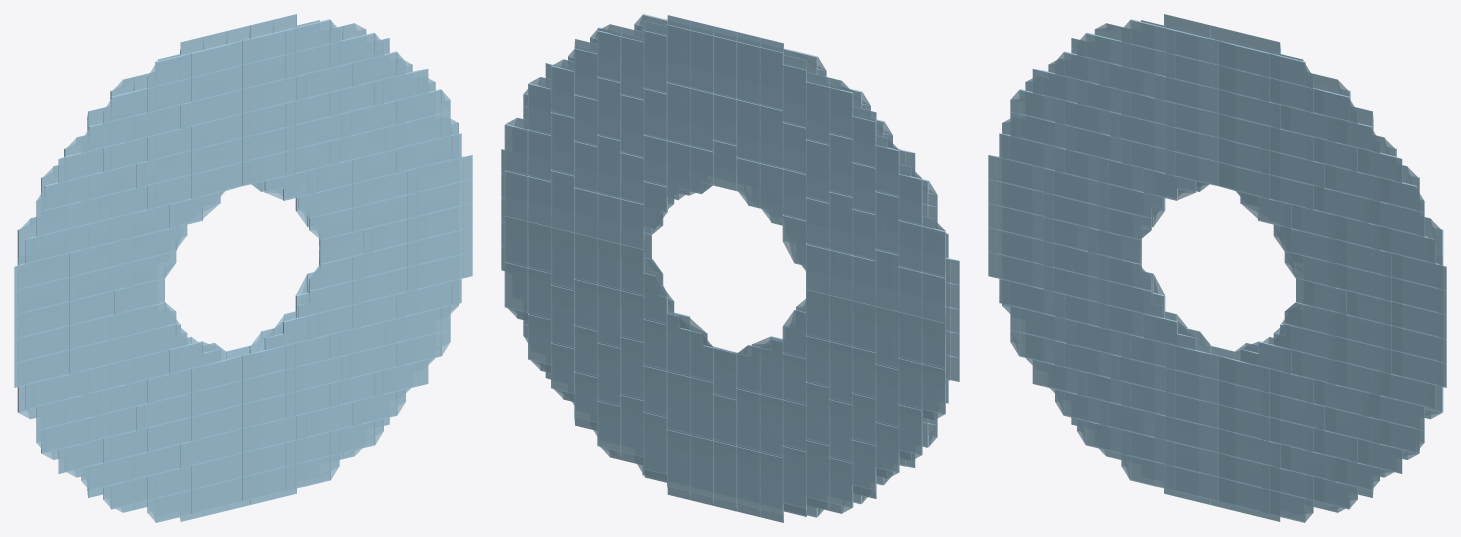
The model's file is ESplus.glb.
3 renders of one model, left to right at view 1: azimuth 30°, elevation 25°; view 2: azimuth 150°, elevation 25°; view 3: azimuth 330°, elevation 25°, orthographic.
Parts seen in each view (by area): view 1: Mesh75 esalgo_SFLX0a_materials_E_Air32 lp_esalgo_SFLY0a33 Mo, Mesh97 esalgo_SFLX0a_materials_E_Air43 lp_esalgo_SFLY0a44 Mo, Mesh11 esalgo_SFLX0a_materials_E_Air3 lp_esalgo_SFLY0a4 Mode, Mesh77 esalgo_SFLX0a_materials_E_Air33 lp_esalgo_SFLY0a34 Mo, Mesh371 esalgo_SFLX0b_materials_E_Air3 lp_esalgo_SFLY0b2 Mod, Mesh349 esalgo_SFLX0c_materials_E_Air2 lp_esalgo_SFLY0c1 Mod, Mesh351 esalgo_SFLX0c_materials_E_Air3 lp_esalgo_SFLY0c2 Mod, Mesh369 esalgo_SFLX0b_materials_E_Air2 lp_esalgo_SFLY0b1 Mod, Mesh93 esalgo_SFLX0a_materials_E_Air41 lp_esalgo_SFLY0a42 Mo, Mesh49 esalgo_SFLX0a_materials_E_Air19 lp_esalgo_SFLY0a20 Mo, Mesh17 esalgo_SFLX0a_materials_E_Air6 lp_esalgo_SFLY0a7 Mode, Mesh51 esalgo_SFLX0a_materials_E_Air20 lp_esalgo_SFLY0a21 Mo (+115 smaller); view 2: Mesh113 esalgo_SFLX0a_materials_E_Air51 lp_esalgo_SFLX0a6 Mo, Mesh109 esalgo_SFLX0a_materials_E_Air49 lp_esalgo_SFLX0a4 Mo, Mesh301 esalgo_SFLX0a_materials_E_Air68 lp_esalgo_SFLX0a23 M, Mesh293 esalgo_SFLX0a_materials_E_Air64 lp_esalgo_SFLX0a19 M, Mesh305 esalgo_SFLX0a_materials_E_Air70 lp_esalgo_SFLX0a25 M, Mesh325 esalgo_SFLX0a_materials_E_Air80 lp_esalgo_SFLX0a35 M, Mesh321 esalgo_SFLX0a_materials_E_Air78 lp_esalgo_SFLX0a33 M, Mesh107 esalgo_SFLX0a_materials_E_Air48 lp_esalgo_SFLX0a3 Mo, Mesh111 esalgo_SFLX0a_materials_E_Air50 lp_esalgo_SFLX0a5 Mo, Mesh303 esalgo_SFLX0a_materials_E_Air69 lp_esalgo_SFLX0a24 M, Mesh295 esalgo_SFLX0a_materials_E_Air65 lp_esalgo_SFLX0a20 M, Mesh307 esalgo_SFLX0a_materials_E_Air71 lp_esalgo_SFLX0a26 M (+114 smaller); view 3: Mesh77 esalgo_SFLX0a_materials_E_Air33 lp_esalgo_SFLY0a34 Mo, Mesh11 esalgo_SFLX0a_materials_E_Air3 lp_esalgo_SFLY0a4 Mode, Mesh97 esalgo_SFLX0a_materials_E_Air43 lp_esalgo_SFLY0a44 Mo, Mesh75 esalgo_SFLX0a_materials_E_Air32 lp_esalgo_SFLY0a33 Mo, Mesh351 esalgo_SFLX0c_materials_E_Air3 lp_esalgo_SFLY0c2 Mod, Mesh369 esalgo_SFLX0b_materials_E_Air2 lp_esalgo_SFLY0b1 Mod, Mesh371 esalgo_SFLX0b_materials_E_Air3 lp_esalgo_SFLY0b2 Mod, Mesh349 esalgo_SFLX0c_materials_E_Air2 lp_esalgo_SFLY0c1 Mod, Mesh65 esalgo_SFLX0a_materials_E_Air27 lp_esalgo_SFLY0a28 Mo, Mesh51 esalgo_SFLX0a_materials_E_Air20 lp_esalgo_SFLY0a21 Mo, Mesh49 esalgo_SFLX0a_materials_E_Air19 lp_esalgo_SFLY0a20 Mo, Mesh91 esalgo_SFLX0a_materials_E_Air40 lp_esalgo_SFLY0a41 Mo (+115 smaller).
Part boxes in pixels (<box>): Mesh75 esalgo_SFLX0a_materials_E_Air32 lp_esalgo_SFLY0a33 Mo: <box>242,74,306,113</box>; Mesh97 esalgo_SFLX0a_materials_E_Air43 lp_esalgo_SFLY0a44 Mo: <box>242,414,306,452</box>; Mesh11 esalgo_SFLX0a_materials_E_Air3 lp_esalgo_SFLY0a4 Mode: <box>180,428,242,468</box>; Mesh77 esalgo_SFLX0a_materials_E_Air33 lp_esalgo_SFLY0a34 Mo: <box>180,89,242,128</box>; Mesh371 esalgo_SFLX0b_materials_E_Air3 lp_esalgo_SFLY0b2 Mod: <box>298,279,361,317</box>; Mesh349 esalgo_SFLX0c_materials_E_Air2 lp_esalgo_SFLY0c1 Mod: <box>298,182,361,218</box>; Mesh351 esalgo_SFLX0c_materials_E_Air3 lp_esalgo_SFLY0c2 Mod: <box>125,323,187,360</box>; Mesh369 esalgo_SFLX0b_materials_E_Air2 lp_esalgo_SFLY0b1 Mod: <box>125,224,187,263</box>; Mesh93 esalgo_SFLX0a_materials_E_Air41 lp_esalgo_SFLY0a42 Mo: <box>69,239,125,277</box>; Mesh49 esalgo_SFLX0a_materials_E_Air19 lp_esalgo_SFLY0a20 Mo: <box>69,336,125,374</box>; Mesh17 esalgo_SFLX0a_materials_E_Air6 lp_esalgo_SFLY0a7 Mode: <box>69,263,125,301</box>; Mesh51 esalgo_SFLX0a_materials_E_Air20 lp_esalgo_SFLY0a21 Mo: <box>361,265,417,302</box>; Mesh113 esalgo_SFLX0a_materials_E_Air51 lp_esalgo_SFLX0a6 Mo: <box>782,55,806,126</box>; Mesh109 esalgo_SFLX0a_materials_E_Air49 lp_esalgo_SFLX0a4 Mo: <box>759,37,783,109</box>; Mesh301 esalgo_SFLX0a_materials_E_Air68 lp_esalgo_SFLX0a23 M: <box>713,26,737,97</box>; Mesh293 esalgo_SFLX0a_materials_E_Air64 lp_esalgo_SFLX0a19 M: <box>736,32,760,103</box>; Mesh305 esalgo_SFLX0a_materials_E_Air70 lp_esalgo_SFLX0a25 M: <box>690,20,713,92</box>; Mesh325 esalgo_SFLX0a_materials_E_Air80 lp_esalgo_SFLX0a35 M: <box>620,27,643,98</box>; Mesh321 esalgo_SFLX0a_materials_E_Air78 lp_esalgo_SFLX0a33 M: <box>643,21,666,92</box>; Mesh107 esalgo_SFLX0a_materials_E_Air48 lp_esalgo_SFLX0a3 Mo: <box>759,452,783,522</box>; Mesh111 esalgo_SFLX0a_materials_E_Air50 lp_esalgo_SFLX0a5 Mo: <box>782,446,806,516</box>; Mesh303 esalgo_SFLX0a_materials_E_Air69 lp_esalgo_SFLX0a24 M: <box>713,441,737,511</box>; Mesh295 esalgo_SFLX0a_materials_E_Air65 lp_esalgo_SFLX0a20 M: <box>736,446,760,517</box>; Mesh307 esalgo_SFLX0a_materials_E_Air71 lp_esalgo_SFLX0a26 M: <box>690,435,713,505</box>; Mesh77 esalgo_SFLX0a_materials_E_Air33 lp_esalgo_SFLY0a34 Mo: <box>1154,74,1218,113</box>; Mesh11 esalgo_SFLX0a_materials_E_Air3 lp_esalgo_SFLY0a4 Mode: <box>1154,414,1218,452</box>; Mesh97 esalgo_SFLX0a_materials_E_Air43 lp_esalgo_SFLY0a44 Mo: <box>1218,428,1280,468</box>; Mesh75 esalgo_SFLX0a_materials_E_Air32 lp_esalgo_SFLY0a33 Mo: <box>1218,89,1280,128</box>; Mesh351 esalgo_SFLX0c_materials_E_Air3 lp_esalgo_SFLY0c2 Mod: <box>1099,279,1162,317</box>; Mesh369 esalgo_SFLX0b_materials_E_Air2 lp_esalgo_SFLY0b1 Mod: <box>1099,182,1162,218</box>; Mesh371 esalgo_SFLX0b_materials_E_Air3 lp_esalgo_SFLY0b2 Mod: <box>1273,323,1335,360</box>; Mesh349 esalgo_SFLX0c_materials_E_Air2 lp_esalgo_SFLY0c1 Mod: <box>1273,224,1335,263</box>; Mesh65 esalgo_SFLX0a_materials_E_Air27 lp_esalgo_SFLY0a28 Mo: <box>1335,239,1391,277</box>; Mesh51 esalgo_SFLX0a_materials_E_Air20 lp_esalgo_SFLY0a21 Mo: <box>1335,336,1391,374</box>; Mesh49 esalgo_SFLX0a_materials_E_Air19 lp_esalgo_SFLY0a20 Mo: <box>1043,265,1099,302</box>; Mesh91 esalgo_SFLX0a_materials_E_Air40 lp_esalgo_SFLY0a41 Mo: <box>1335,263,1391,301</box>.
Size of the model in its own units: 2.52 by 2.52 by 0.0554.
